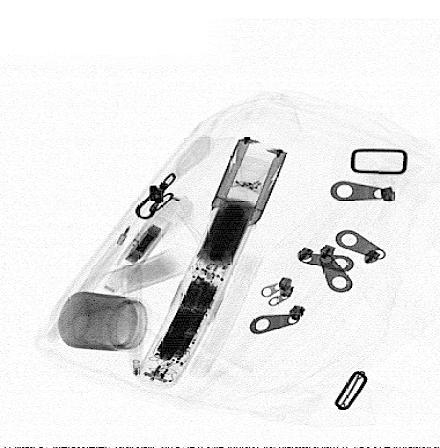Baton: (136, 135, 289, 389)
